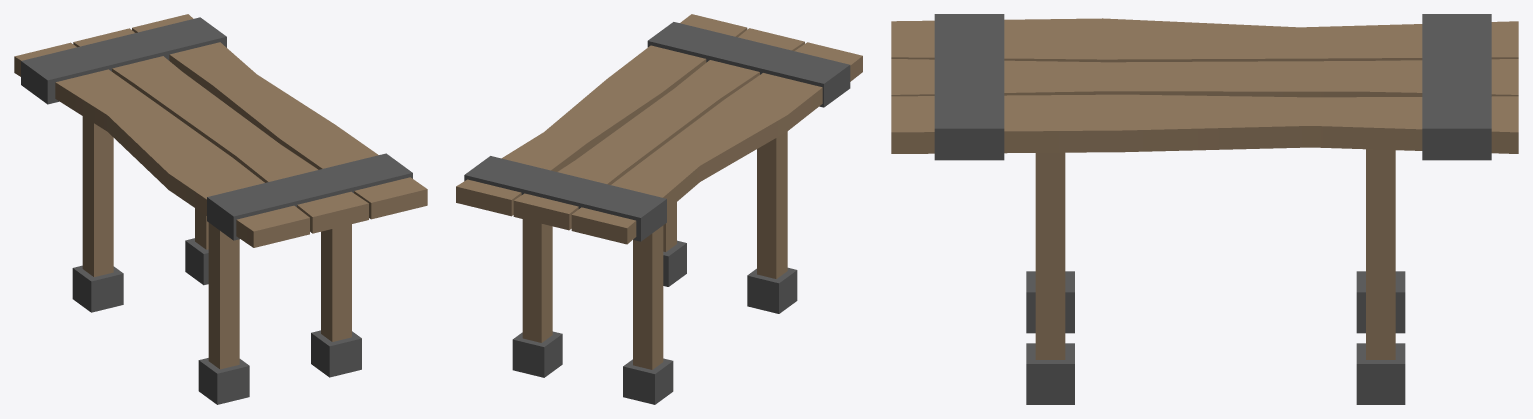
Rendered from Table_Blockout.fbx.
The picture shows the model from 3 angles, left to right: view 1: azimuth 30°, elevation 25°; view 2: azimuth 150°, elevation 25°; view 3: azimuth 270°, elevation 25°; orthographic projection. The views are drawn at different scales.
Parts seen in each view (by area): view 1: polySurface86; view 2: polySurface86; view 3: polySurface86.
Boxes of the visible parts, left/top/right/bottom form: polySurface86: left=14, top=14, right=427, bottom=404; polySurface86: left=456, top=14, right=862, bottom=404; polySurface86: left=891, top=14, right=1518, bottom=404.
Size of the model in its own units: 0.7865 by 0.9128 by 1.81.
